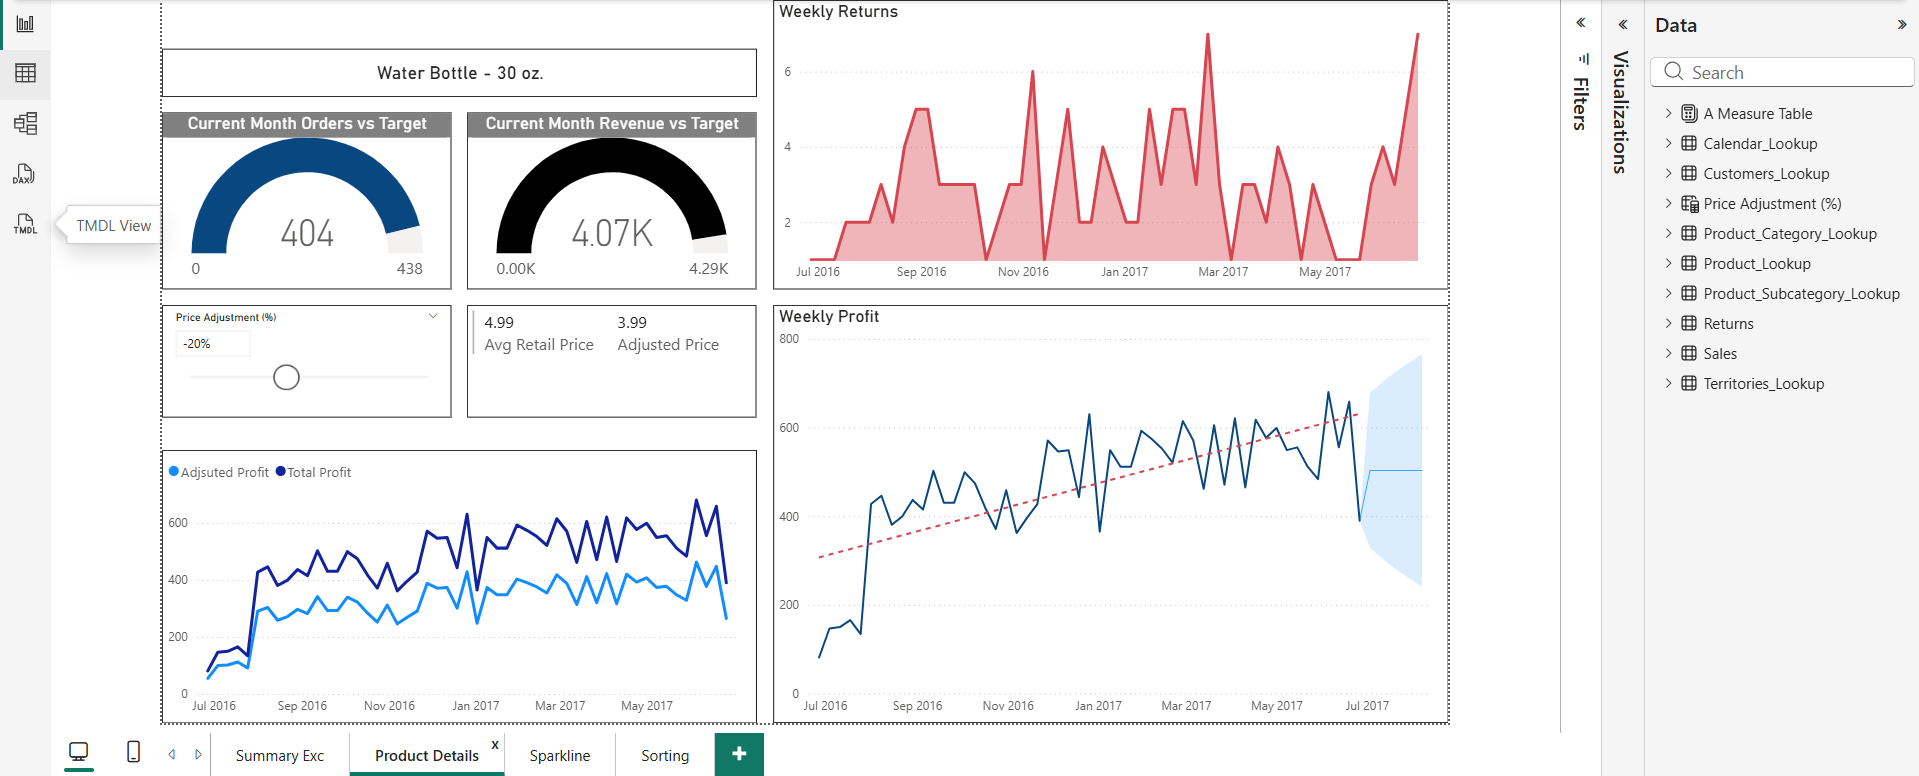

What the dashboard file says about the page in this screenshot:
{"tool":"powerbi","page":{"name":"Product Details","canvas":[1280,720],"ordinal":1},"visuals":[{"type":"lineChart","title":"Weekly Profit","fields":{"Y":["A Measure Table.Total Profit"],"Category":["Calendar_Lookup.Start of Week"]},"box":[608,304,672,416],"z":0},{"type":"areaChart","title":"Weekly Returns","fields":{"Y":["A Measure Table.Total Returns"],"Category":["Calendar_Lookup.Start of Week"]},"box":[608,0,672,288],"z":1000},{"type":"gauge","title":"Current Month Orders vs Target","fields":{"Y":["A Measure Table.Total Orders By Line"],"MaxValue":["A Measure Table.Order Target"]},"box":[0,112,288,176],"z":2000},{"type":"gauge","title":"Current Month Revenue vs Target","fields":{"Y":["A Measure Table.Total Revenue Measure"],"MaxValue":["A Measure Table.Revenue Target"]},"box":[304,112,288,176],"z":3000},{"type":"card","fields":{"Values":["Min(Product_Lookup.ProductName)"]},"box":[0,48,592,48],"z":4000},{"type":"slicer","fields":{"Values":["Price Adjustment (%).Price Adjustment (%)"]},"box":[0,304,288,112],"z":6000},{"type":"multiRowCard","fields":{"Values":["A Measure Table.Avg Retail Price","A Measure Table.Adjusted Price"]},"box":[304,304,288,112],"z":7000},{"type":"lineChart","fields":{"Y":["A Measure Table.Adjsuted Profit","A Measure Table.Total Profit"],"Category":["Calendar_Lookup.Start of Week"]},"box":[0,448,592,272],"z":8000}]}

Visuals, with their boxes on the page's 1280x720 design canvas (x1, y1, x2, y2). These are canvas units, not pixel positions in the 1919x776 screenshot, which may show the page scaled, cropped or inside an application window:
"Weekly Profit" lineChart: 608,304,1280,720
"Weekly Returns" areaChart: 608,0,1280,288
"Current Month Orders vs Target" gauge: 0,112,288,288
"Current Month Revenue vs Target" gauge: 304,112,592,288
card - Min(Product_Lookup.ProductName): 0,48,592,96
slicer - Price Adjustment (%).Price Adjustment (%): 0,304,288,416
multiRowCard - A Measure Table.Avg Retail Price x A Measure Table.Adjusted Price: 304,304,592,416
lineChart - A Measure Table.Adjsuted Profit x A Measure Table.Total Profit: 0,448,592,720
